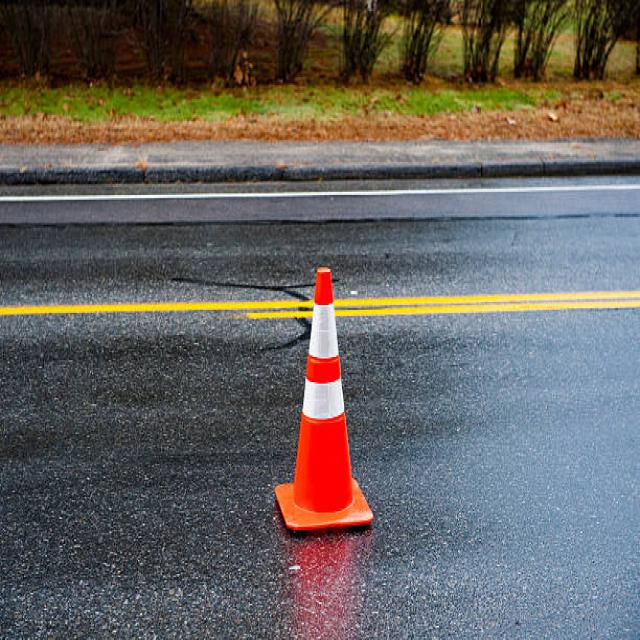Traffic Cone: (258, 253, 386, 563)
